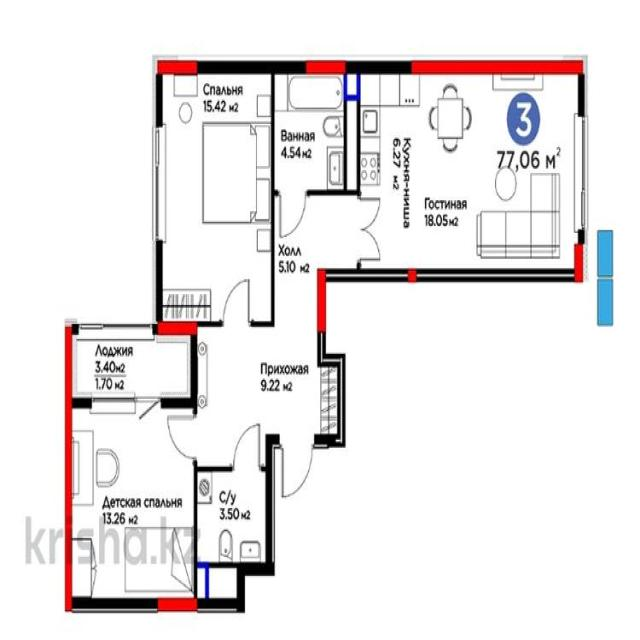balcony: (65, 325, 193, 402)
bathroom: (273, 70, 348, 194), (196, 467, 271, 565)
hallway: (194, 328, 318, 468), (277, 195, 315, 327)
living_room: (164, 68, 270, 324), (67, 399, 191, 602)
studio: (354, 70, 579, 269)
